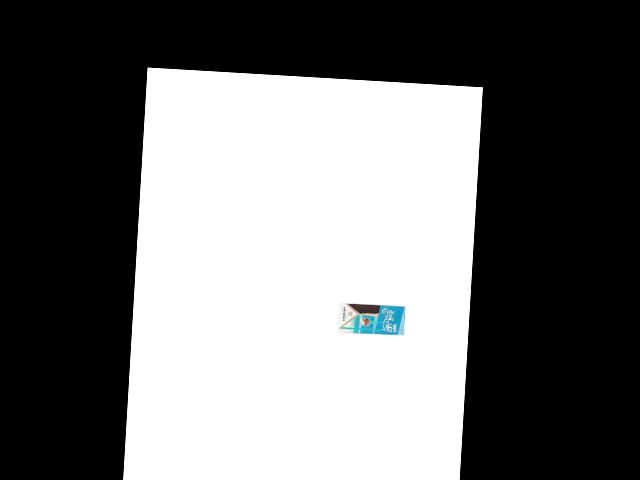chocolate: (335, 300, 406, 337)
